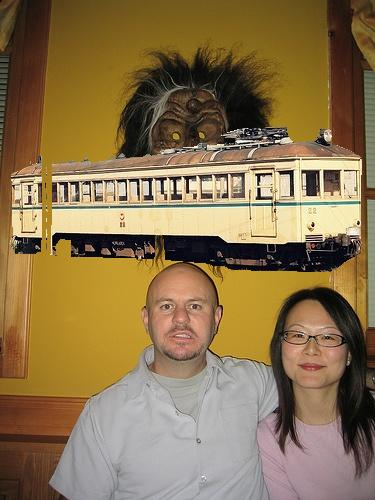tampered: (10, 128, 362, 272)
